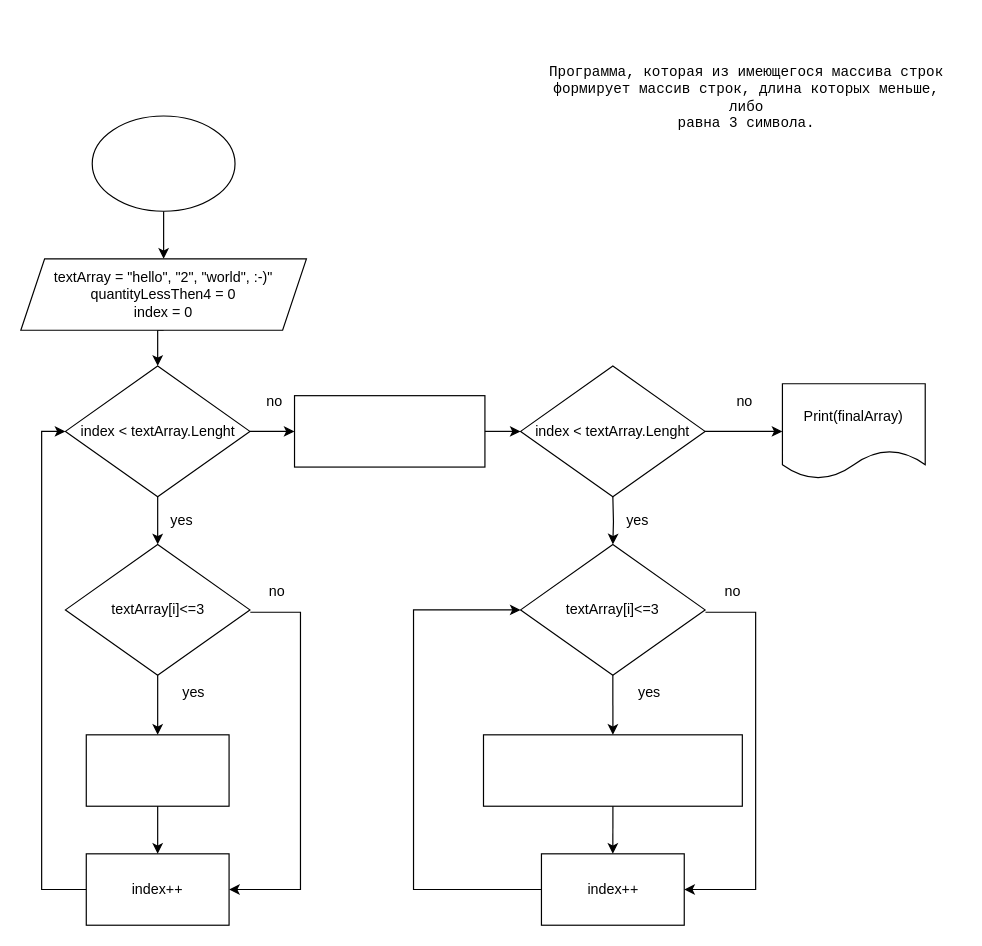
This 982x946 diagram has some shape labels left out. The centre of each missing label's shape, as x and y in pixels:
"count = 0 finalArray =new string [quantityLessThen4]" belongs at pixel 389 430.
"finalArray[count] = textArray[i] count++" belongs at pixel 612 770.
"quantityLessThen4++" belongs at pixel 157 770.
"Start" belongs at pixel 163 163.
